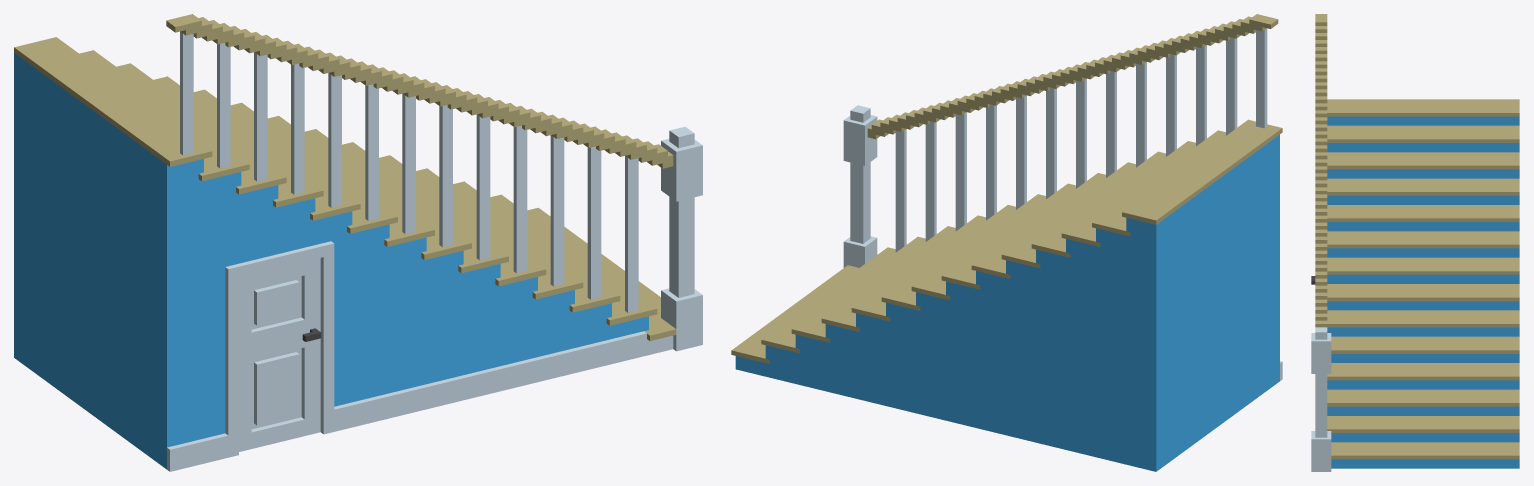
Rendered from staircase.obj.
3 renders of one model, left to right at view 1: azimuth 30°, elevation 25°; view 2: azimuth 150°, elevation 25°; view 3: azimuth 270°, elevation 25°, orthographic. The views are drawn at different scales.
Size of the model in its own units: 10 by 8 by 5.2.
1 material, 1 textured.
